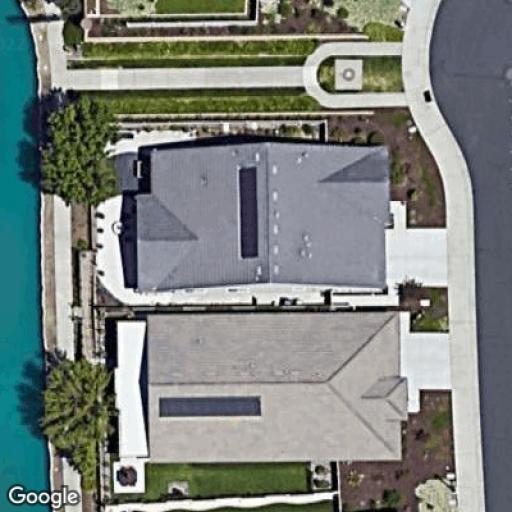solar-panel: (155, 393, 267, 420), (238, 166, 261, 262)
